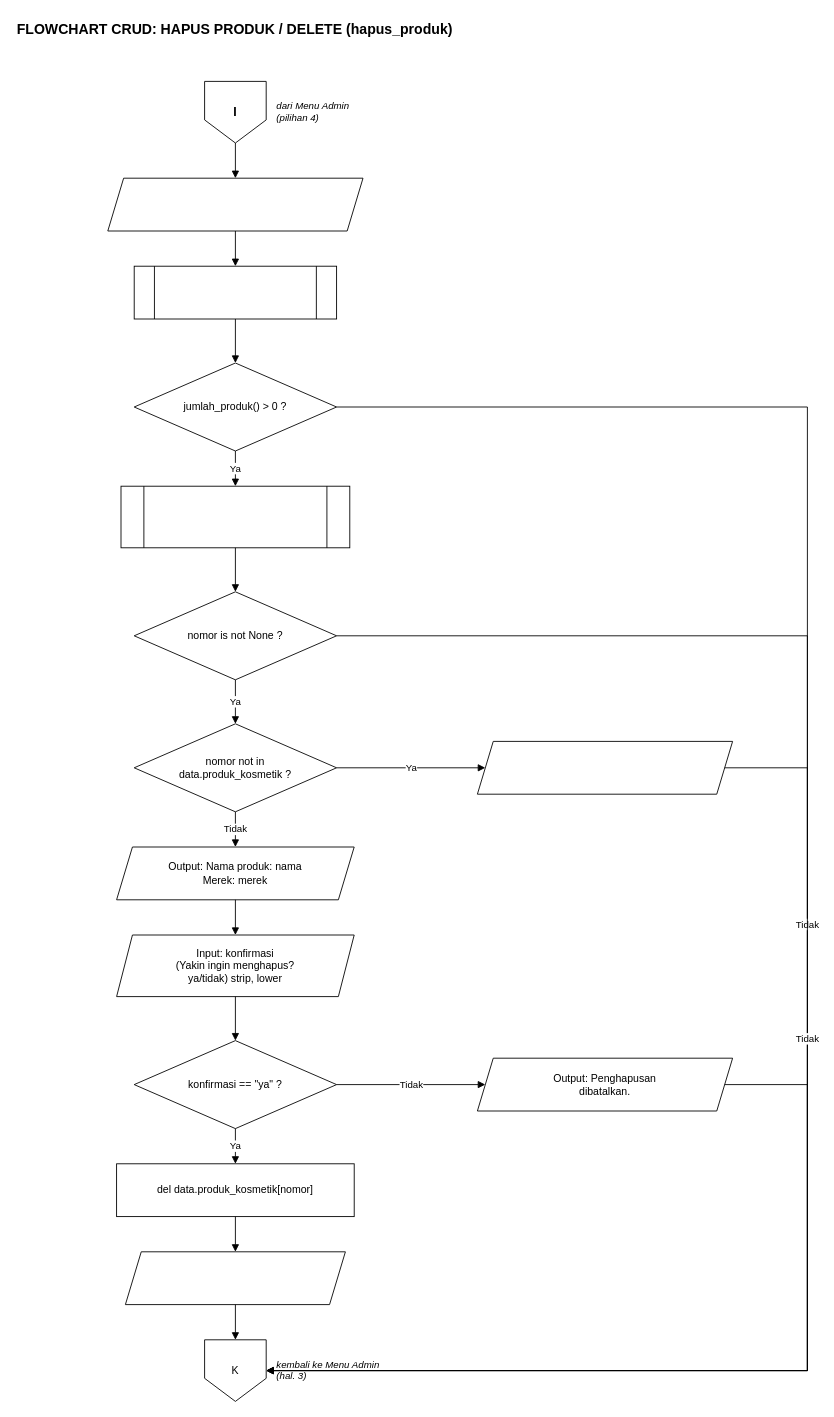
The diagram is 834 pixels wide and 1417 high, and some of its shapes have lost their labels. Here are the shapes that lost their labels. From the top down, the centre of each, then its label:
[235,204]: Output: ===== HAPUS PRODUK =====
[235,292]: tampilkan_produk( data.produk_kosmetik)
[235,516]: nomor = input_angka( "Nomor produk yang ingin dihapus: ", 1)
[605,767]: Output: Nomor produk tidak ditemukan!
[235,1278]: Output: Produk berhasil dihapus!
